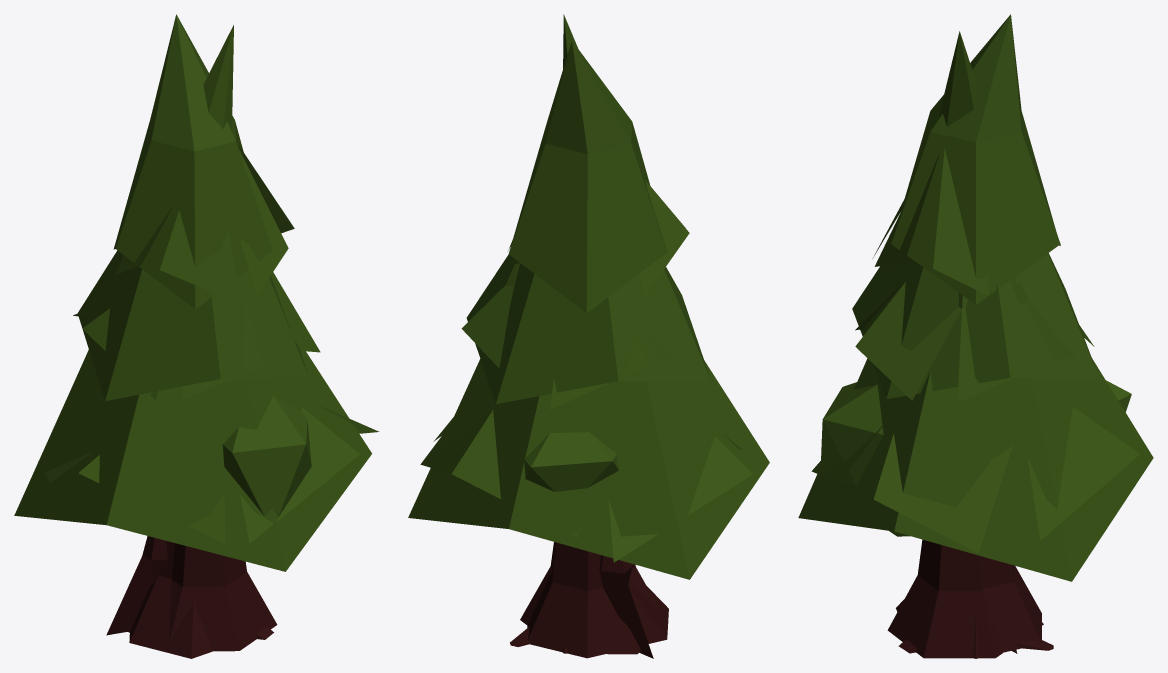
Rendered from Trees.fbx.
3 views of the same model, side by side, from view 1: azimuth 30°, elevation 25°; view 2: azimuth 150°, elevation 25°; view 3: azimuth 270°, elevation 25° (orthographic). The views are drawn at different scales.
Parts seen in each view (by area): view 1: Pine_01, Pine_02, Tree_01; view 2: Pine_01, Pine_02, Tree_01; view 3: Pine_01, Pine_02, Tree_01.
Boxes of the visible parts, box(x1,y1,x2,y2) form: Pine_01: box(14, 14, 371, 658); Pine_02: box(38, 25, 379, 651); Tree_01: box(106, 396, 311, 635); Pine_01: box(408, 41, 769, 658); Pine_02: box(420, 14, 752, 654); Tree_01: box(524, 432, 653, 658); Pine_01: box(798, 14, 1153, 658); Pine_02: box(811, 31, 1140, 658); Tree_01: box(820, 380, 1131, 653).
Bounding box in the file's own units: 573 × 1072 × 557.
